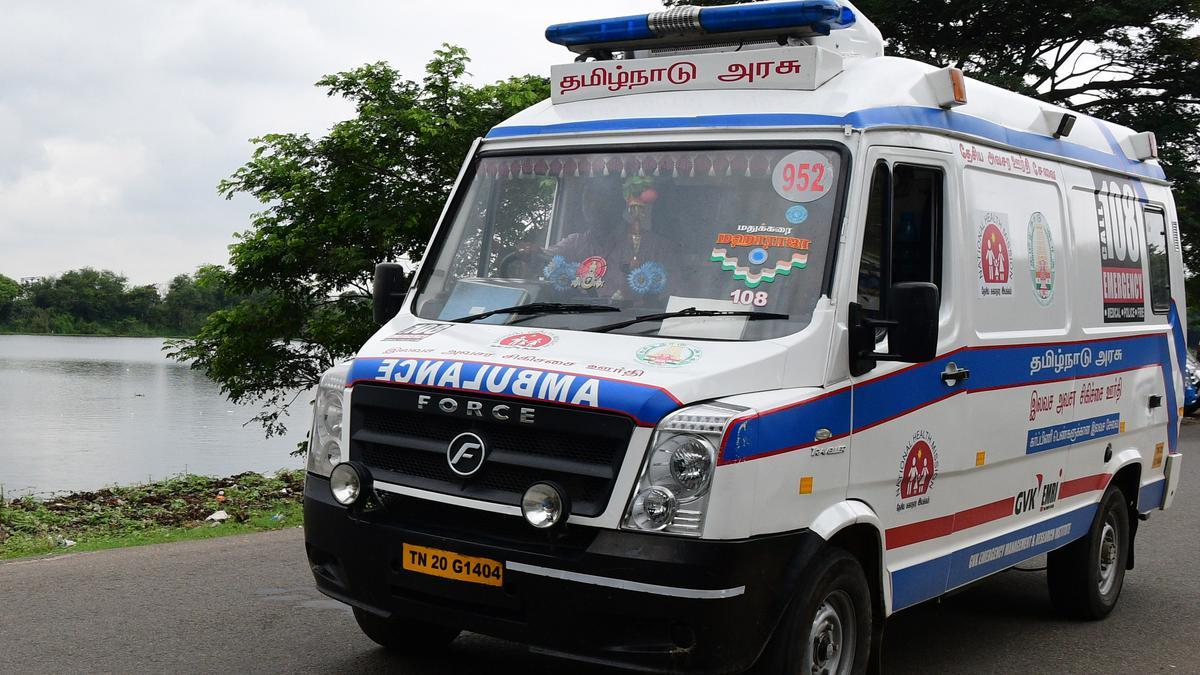ER: (303, 1, 1191, 675)
